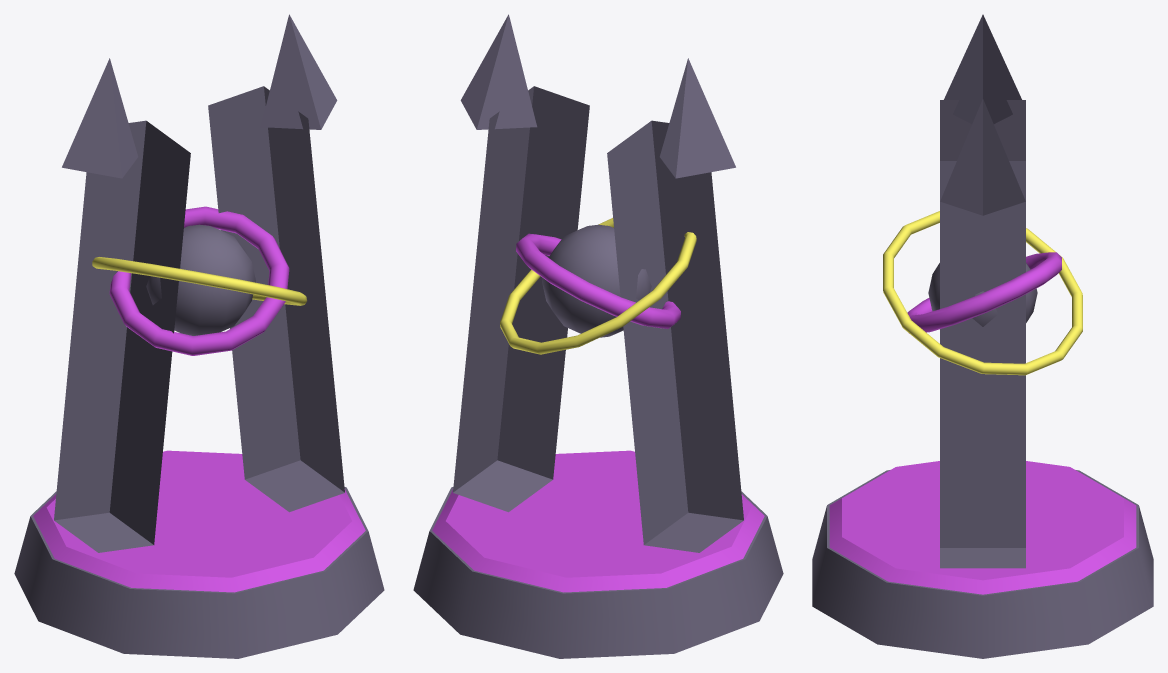
File: void_spawn.glb
3 renders of one model, left to right at view 1: azimuth 30°, elevation 25°; view 2: azimuth 150°, elevation 25°; view 3: azimuth 270°, elevation 25°, orthographic. The views are drawn at different scales.
Parts seen in each view (by area): view 1: void_spawn; view 2: void_spawn; view 3: void_spawn.
Boxes of the visible parts, x1=… form: void_spawn: x1=14, y1=14, x2=384, y2=658; void_spawn: x1=413, y1=14, x2=783, y2=658; void_spawn: x1=812, y1=14, x2=1153, y2=658.
Size of the model in its own units: 0.92 by 1.49 by 0.875.
